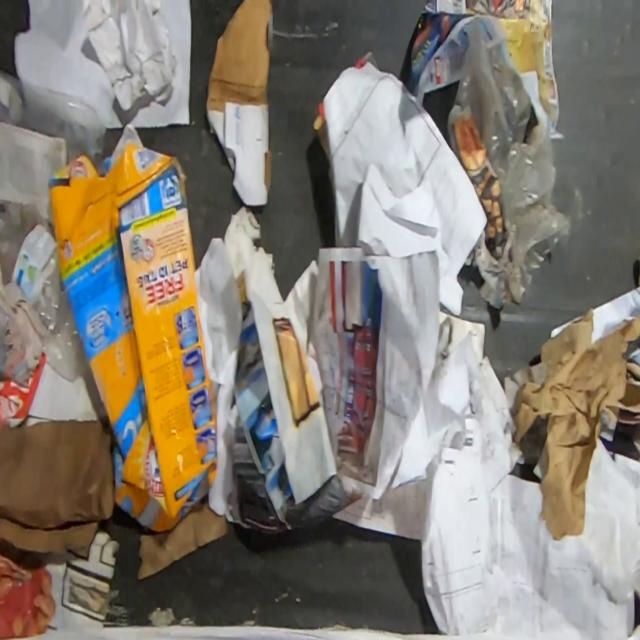cardboard: (48, 139, 220, 532), (204, 0, 273, 207)
rigid_plastic: (0, 199, 89, 383)
soft_plastic: (452, 16, 572, 302), (0, 66, 108, 164)
